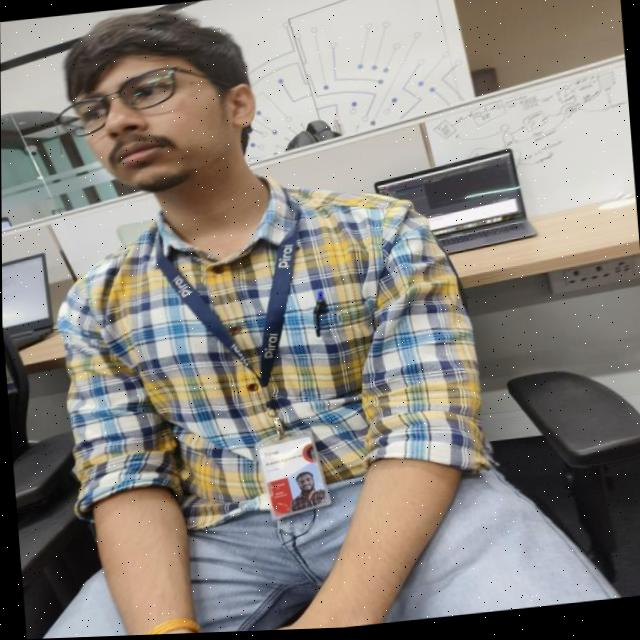id_card: (138, 198, 371, 542)
